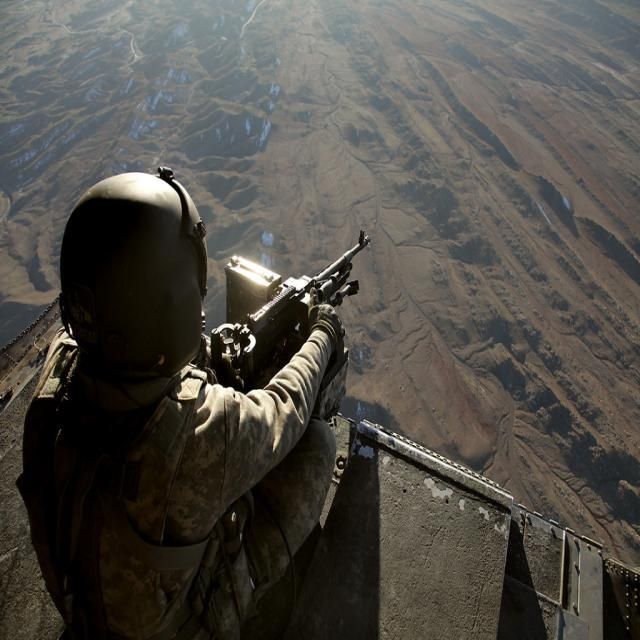weapon: (191, 249, 378, 472)
